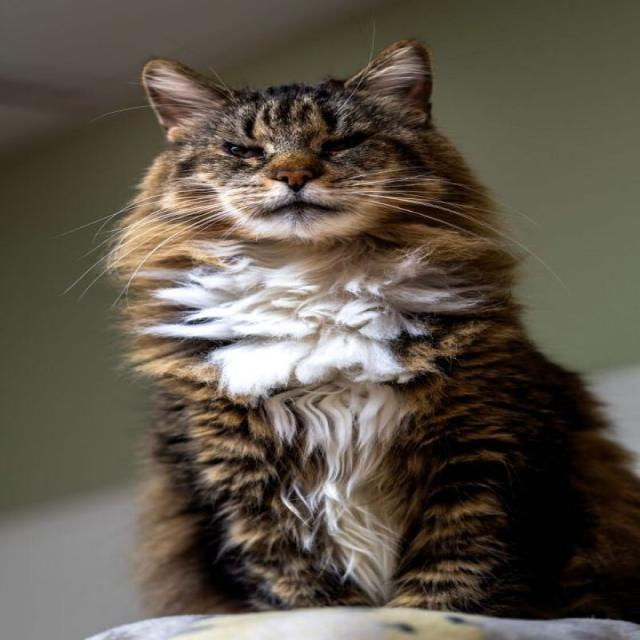domestic_long_hair_cat: (108, 32, 521, 372)
